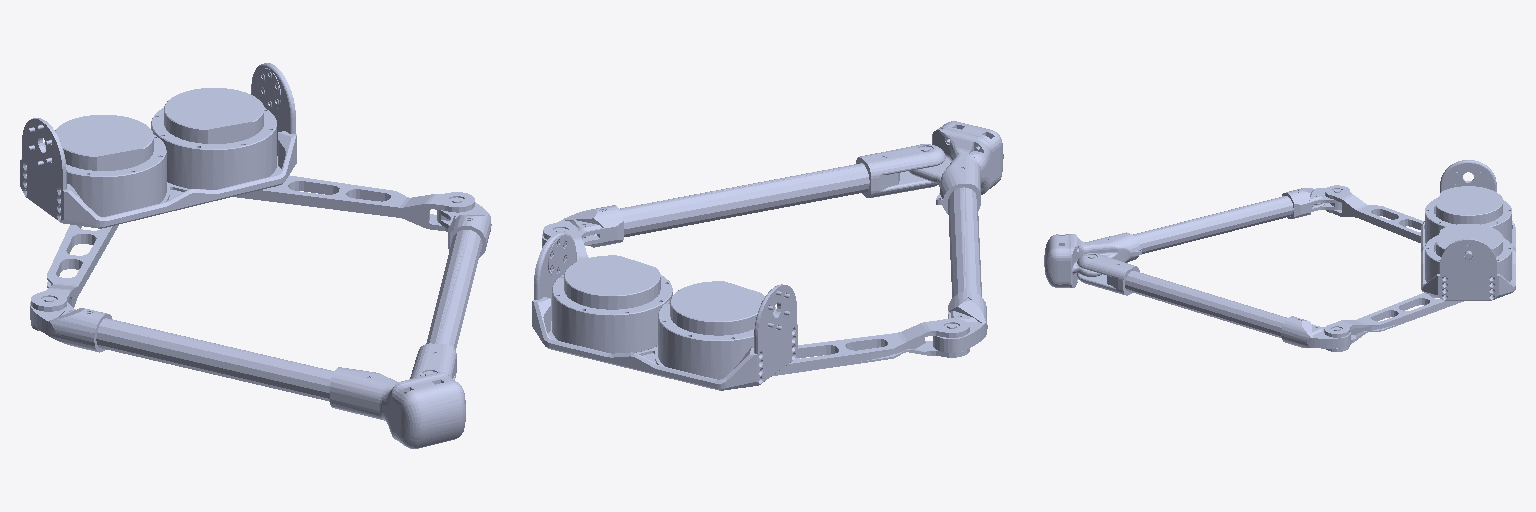
robot.urdf — ntnu_leg:
<?xml version="1.0" encoding="utf-8"?>
<!-- This URDF was automatically created by SolidWorks to URDF Exporter! Originally created by [author] ([email redacted]) 
     Commit Version: 1.6.0-1-g15f4949  Build Version: 1.6.7594.29634
     For more information, please see http://wiki.ros.org/sw_urdf_exporter -->
<robot
  name="ntnu_leg">
  <!-- <link name="world"/> -->

  <link
    name="MH">
    <inertial>
      <origin
        xyz="0.091111 0.00024794 -0.030241"
        rpy="0 0 0" />
      <mass
        value="1.4057" />
      <inertia
        ixx="0.0010021"
        ixy="1.1E-06"
        ixz="-7.91E-06"
        iyy="0.004407"
        iyz="-6.01E-06"
        izz="0.0048417" />
    </inertial>
    <visual>
      <origin
        xyz="0 0 0"
        rpy="0 0 0" />
      <geometry>
        <mesh
          filename="meshes/MH.obj" />
      </geometry>
      <material
        name="">
        <color
          rgba="0.79216 0.81961 0.93333 1" />
      </material>
    </visual>
    <collision>
      <origin
        xyz="0 0 0"
        rpy="0 0 0" />
      <geometry>
        <mesh
          filename="meshes/MH_collisionSW.obj" />
      </geometry>
    </collision>
  </link>
  <!-- <joint
    name="jointMH"
    type="revolute">
    <origin
      xyz="0 0 1"
      rpy="-1.57079632679  0 0" />
    <parent
      link="world" />
    <child
      link="MH" />
    <axis
      xyz="1 0 0" />
    <limit
      lower="-1.57079632679"
      upper="1.57079632679"
      effort="100"
      velocity="1000" />
  </joint> -->
  <link
    name="link11">
    <inertial>
      <origin
        xyz="0.098421 0.00092667 0.00012402"
        rpy="3.14159 0 0" />
      <mass
        value="0.10145" />
      <inertia
        ixx="9.3E-06"
        ixy="2.43E-06"
        ixz="-1.24E-06"
        iyy="0.00050506"
        iyz="1E-08"
        izz="0.00051065" />
    </inertial>
    <visual>
      <origin
        xyz="0 0 0"
        rpy="3.14159 0 0" />
      <geometry>
        <mesh
          filename="meshes/link11.obj" />
      </geometry>
      <material
        name="">
        <color
          rgba="0.79216 0.81961 0.93333 1" />
      </material>
    </visual>
    <collision>
      <origin
        xyz="0 0 0"
        rpy="0 0 0" />
      <geometry>
        <mesh
          filename="meshes/link11_collisionSW.obj" />
      </geometry>
    </collision>
  </link>
  <joint
    name="joint11"
    type="revolute">
    <origin
      xyz="0.046 -1.1338E-05 -0.0597"
      rpy="0 0 -2.3095" />
    <parent
      link="MH" />
    <child
      link="link11" />
    <axis
      xyz="0 0 1" />
    <limit
      lower="-3.14"
      upper="3.14"
      effort="100"
      velocity="1000" />
  </joint>
  <link
    name="link21">
    <inertial>
      <origin
        xyz="0.20494 -0.021034 -2.714E-05"
        rpy="0 0 0" />
      <mass
        value="0.20117" />
      <inertia
        ixx="3.571E-05"
        ixy="9.52E-05"
        ixz="1.7E-07"
        iyy="0.0018983"
        iyz="-2E-08"
        izz="0.0019089" />
    </inertial>
    <visual>
      <origin
        xyz="0 0 0"
        rpy="0 0 0" />
      <geometry>
        <mesh
          filename="meshes/link21.obj" />
      </geometry>
      <material
        name="">
        <color
          rgba="0.79216 0.81961 0.93333 1" />
      </material>
    </visual>
    <collision>
      <origin
        xyz="0 0 0"
        rpy="0 0 0" />
      <geometry>
        <mesh
          filename="meshes/link21_collisionSW.obj" />
      </geometry>
    </collision>
  </link>
  <joint
    name="joint21"
    type="revolute">
    <origin
      xyz="0.18 0 0"
      rpy="0 0 1.3265" />
    <parent
      link="link11" />
    <child
      link="link21" />
    <axis
      xyz="0 0 1" />
    <limit
      lower="-2.85"
      upper="1.58"
      effort="100"
      velocity="1000" />
  </joint>
  <link
    name="link12">
    <inertial>
      <origin
        xyz="0.098201 -0.00092745 0.00012329"
        rpy="3.14159 0 0" />
      <mass
        value="0.10205" />
      <inertia
        ixx="9.34E-06"
        ixy="-2.49E-06"
        ixz="-1.24E-06"
        iyy="0.00050784"
        iyz="-1E-08"
        izz="0.00051346" />
    </inertial>
    <visual>
      <origin
        xyz="0 0 0"
        rpy="3.14159 0 0" />
      <geometry>
        <mesh
          filename="meshes/link12.obj" />
      </geometry>
      <material
        name="">
        <color
          rgba="0.79216 0.81961 0.93333 1" />
      </material>
    </visual>
    <collision>
      <origin
        xyz="0 0 0"
        rpy="0 0 0" />
      <geometry>
        <mesh
          filename="meshes/link12_collisionSW.obj" />
      </geometry>
    </collision>
  </link>
  <joint
    name="joint12"
    type="revolute">
    <origin
      xyz="0.136 -1.1338E-05 -0.0597"
      rpy="0 0 -0.83482" />
    <parent
      link="MH" />
    <child
      link="link12" />
    <axis
      xyz="0 0 1" />
    <limit
      lower="-3.14"
      upper="3.14"
      effort="100"
      velocity="1000" />
  </joint>
  <link
    name="link22">
    <inertial>
      <origin
        xyz="0.18647 0.0041966 0"
        rpy="0 0 0" />
      <mass
        value="0.13331" />
      <inertia
        ixx="1.73E-05"
        ixy="5.202E-05"
        ixz="0"
        iyy="0.0015703"
        iyz="0"
        izz="0.0015717" />
    </inertial>
    <visual>
      <origin
        xyz="0 0 0"
        rpy="0 0 0" />
      <geometry>
        <mesh
          filename="meshes/link22.obj" />
      </geometry>
      <material
        name="">
        <color
          rgba="0.79216 0.81961 0.93333 1" />
      </material>
    </visual>
    <collision>
      <origin
        xyz="0 0 0"
        rpy="0 0 0" />
      <geometry>
        <mesh
          filename="meshes/link22_collisionSW.obj" />
      </geometry>
    </collision>
  </link>
  <joint
    name="joint22"
    type="revolute">
    <origin
      xyz="0.18 0 0"
      rpy="0 0 -1.3233" />
    <parent
      link="link12" />
    <child
      link="link22" />
    <axis
      xyz="0 0 1" />
    <limit
      lower="-1.51"
      upper="2.9"
      effort="100"
      velocity="1000" />
  </joint>

<!-- Add self collision -->
<gazebo reference="link21">
  <selfCollide>true</selfCollide>
</gazebo>
<gazebo reference="link11">
  <selfCollide>true</selfCollide>
</gazebo>
<gazebo reference="link22">
  <selfCollide>true</selfCollide>
</gazebo>
<gazebo reference="link12">
  <selfCollide>true</selfCollide>
</gazebo>



</robot>

--- Render facts (derived) ---
Views: 3 orthographic renders of the robot side by side, from view 1: azimuth 30°, elevation 25°; view 2: azimuth 150°, elevation 25°; view 3: azimuth 270°, elevation 25°.
Robot: ntnu_leg — 5 links, 4 joints (4 revolute); root link MH; default pose: every joint at zero.
Links seen in each view (by area): view 1: MH, link21, link22, link12, link11; view 2: MH, link22, link21, link11, link12; view 3: MH, link21, link22, link12, link11.
Boxes of the visible links, x1,y1,x2,y2 form: MH: [20, 63, 296, 228]; link21: [30, 302, 465, 448]; link22: [410, 202, 491, 379]; link12: [234, 175, 474, 231]; link11: [31, 225, 118, 330]; MH: [532, 232, 797, 390]; link22: [542, 144, 945, 247]; link21: [909, 121, 1003, 352]; link11: [773, 318, 969, 375]; link12: [543, 223, 588, 261]; MH: [1421, 160, 1515, 300]; link21: [1044, 188, 1341, 287]; link22: [1077, 253, 1350, 348]; link12: [1324, 293, 1463, 351]; link11: [1325, 185, 1423, 242].
Size in the robot's own frame: 0.3616 by 0.4782 by 0.1002 metres.
5 mesh visuals loaded from 5 distinct referenced files (5 OBJ).
